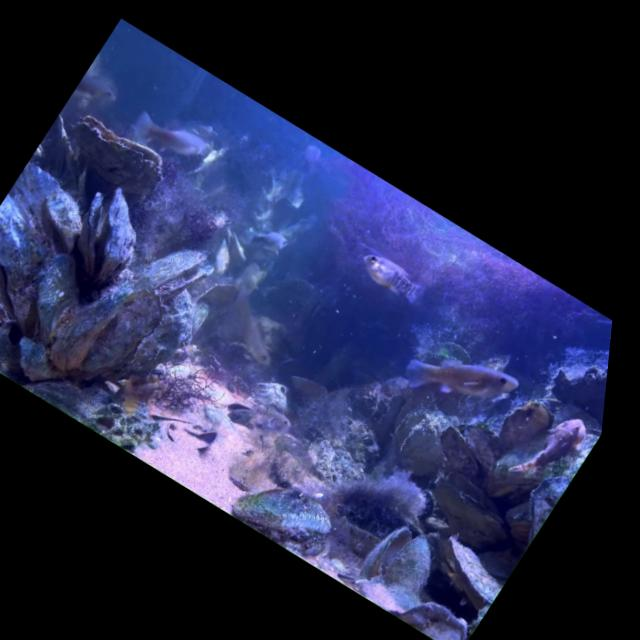Oyster-Closed: (471, 388, 605, 531), (41, 262, 137, 378), (58, 107, 176, 196), (410, 474, 524, 566), (83, 278, 174, 383), (418, 532, 516, 617), (21, 112, 112, 200), (486, 388, 563, 466)
Oyster-Indeterminate: (0, 192, 94, 340), (118, 281, 214, 396), (5, 245, 101, 351), (22, 182, 99, 258), (422, 420, 497, 485), (461, 342, 515, 403), (0, 254, 10, 344)
Oyster-Open: (47, 175, 164, 298), (348, 514, 450, 615), (129, 228, 223, 318), (396, 326, 481, 414), (219, 396, 263, 434)
